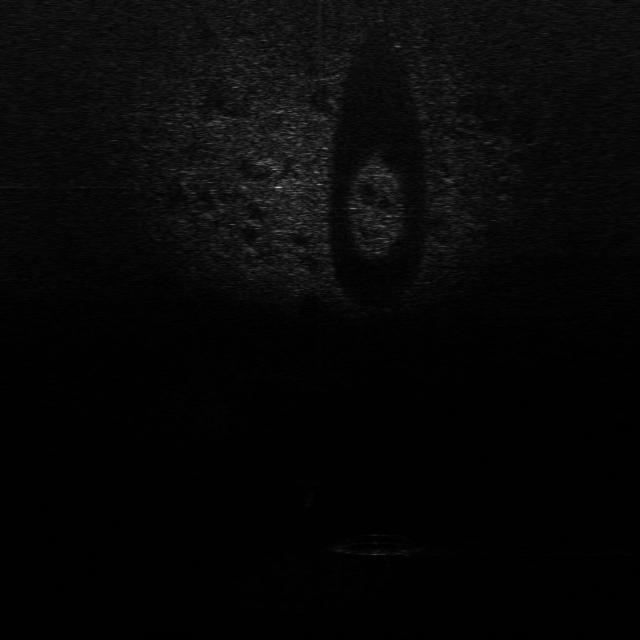tyre: (332, 530, 433, 562)
